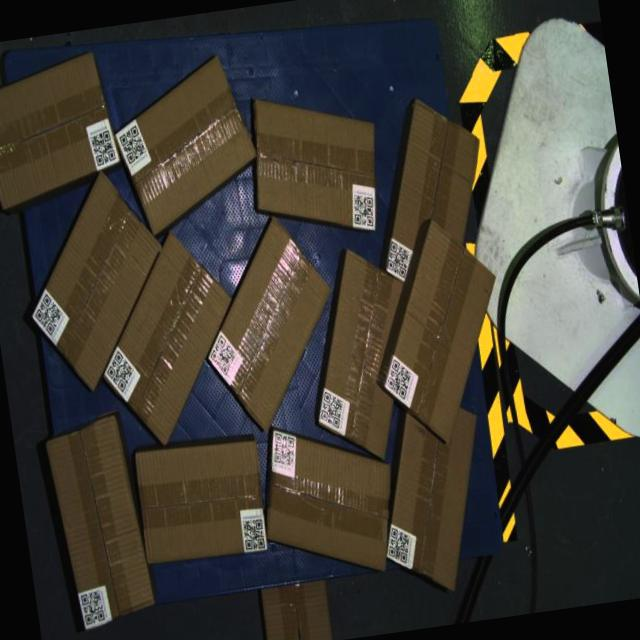box: (12, 163, 181, 399), (84, 223, 252, 455), (362, 212, 518, 452), (189, 209, 350, 440), (106, 52, 266, 240), (252, 413, 406, 587), (43, 413, 157, 633), (242, 84, 390, 246), (0, 49, 125, 212), (132, 436, 272, 567)
